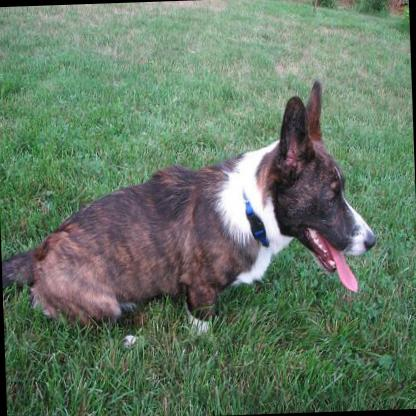Cardigan: (0, 74, 380, 351)
